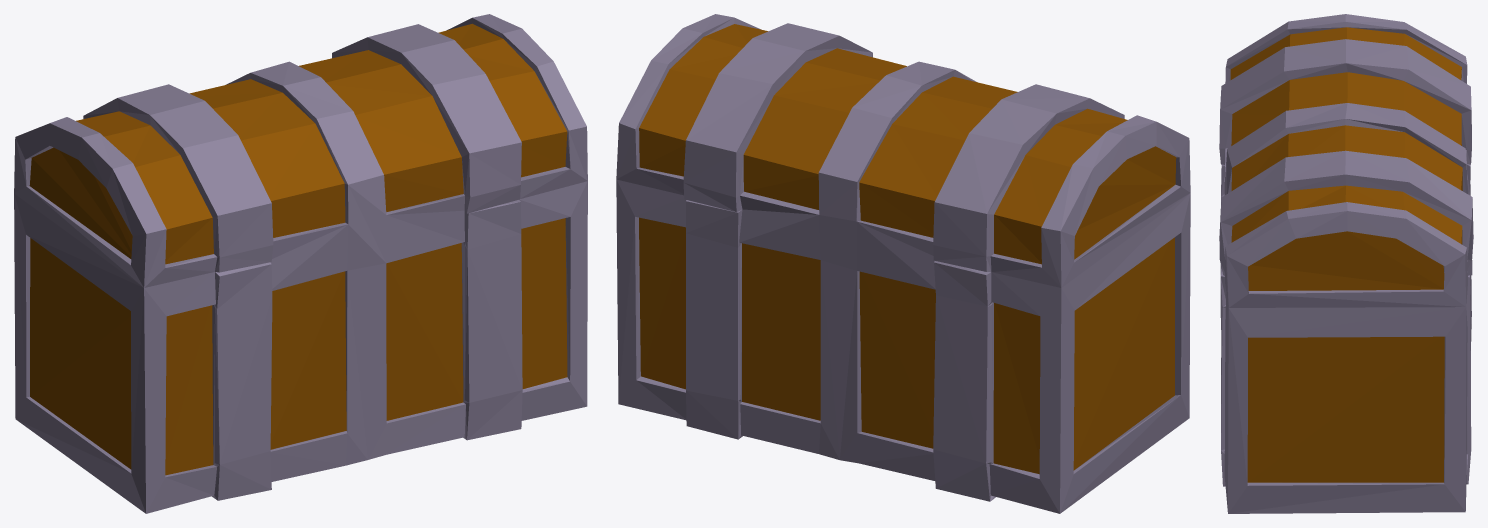
File: Chest_01.fbx
3 views of the same model, side by side, from view 1: azimuth 30°, elevation 25°; view 2: azimuth 150°, elevation 25°; view 3: azimuth 270°, elevation 25° (orthographic). The views are drawn at different scales.
Visible parts, largest first — view 1: Chest_01; view 2: Chest_01; view 3: Chest_01.
Part boxes in pixels (<box>): Chest_01: <box>14,14,587,513</box>; Chest_01: <box>616,14,1190,513</box>; Chest_01: <box>1219,14,1473,513</box>.
Bounding box in the file's own units: 842 × 611 × 450.
